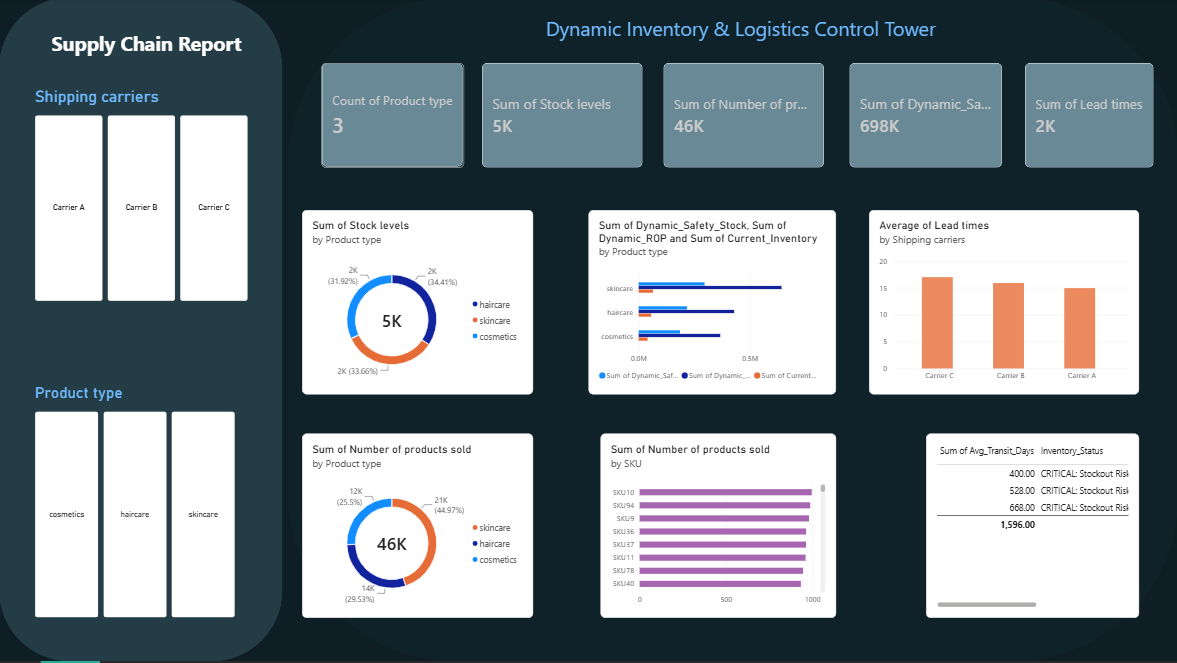

Layout of this report page (visuals, bound fields, positions):
{"tool":"powerbi","page":{"name":"Page 1","canvas":[1920,1080],"ordinal":0},"visuals":[{"type":"shape","box":[0,0,461.1,1080.8],"z":0},{"type":"textbox","box":[85.4,53.7,319.6,53.7],"z":1000},{"type":"shape","box":[470.9,0,1449.3,1080.8],"z":2000},{"type":"textbox","box":[639.2,29.3,1134.5,51.2],"z":3000},{"type":"cardVisual","fields":{"Data":["Count(supply_chain_inventory_final.Product type)"]},"box":[524.6,107.4,231.8,170.8],"z":4000},{"type":"cardVisual","fields":{"Data":["Sum(supply_chain_inventory_final.Stock levels)"]},"box":[785.6,107.4,261.1,170.8],"z":5000},{"type":"cardVisual","fields":{"Data":["Sum(supply_chain_inventory_final.Number of products sold)"]},"box":[1080.8,107.4,261.1,170.8],"z":6000},{"type":"cardVisual","fields":{"Data":["Sum(supply_chain_inventory_final.Dynamic_Safety_Stock)"]},"box":[1383.4,107.4,248.9,170.8],"z":7000},{"type":"cardVisual","fields":{"Data":["Sum(supply_chain_inventory_final.Lead times)"]},"box":[1668.8,107.4,209.8,170.8],"z":8000},{"type":"donutChart","fields":{"Category":["supply_chain_inventory_final.Product type"],"Y":["Sum(supply_chain_inventory_final.Stock levels)"]},"box":[492.8,346.5,375.7,300.1],"z":9000},{"type":"clusteredBarChart","fields":{"Category":["supply_chain_inventory_final.Product type"],"Y":["Sum(supply_chain_inventory_final.Dynamic_Safety_Stock)","Sum(supply_chain_inventory_final.Dynamic_ROP)","Sum(supply_chain_inventory_final.Current_Inventory)"]},"box":[958.8,346.5,402.6,300.1],"z":10000},{"type":"clusteredColumnChart","fields":{"Category":["supply_chain_inventory_final.Shipping carriers"],"Y":["Avg(supply_chain_inventory_final.Lead times)"]},"box":[1415.1,346.5,439.2,300.1],"z":10001},{"type":"donutChart","fields":{"Category":["supply_chain_inventory_final.Product type"],"Y":["Sum(supply_chain_inventory_final.Number of products sold)"]},"box":[492.8,710,375.7,300.1],"z":10002},{"type":"clusteredBarChart","fields":{"Category":["supply_chain_inventory_final.SKU"],"Y":["Sum(supply_chain_inventory_final.Number of products sold)"]},"box":[978.4,710,383.1,300.1],"z":10003},{"type":"tableEx","fields":{"Values":["Sum(supply_chain_inventory_final.Avg_Transit_Days)","supply_chain_inventory_final.Inventory_Status","Sum(supply_chain_inventory_final.Dynamic_ROP)","supply_chain_inventory_final.Product type"]},"box":[1507.8,710,346.5,300.1],"z":10004},{"type":"advancedSlicerVisual","fields":{"Values":["supply_chain_inventory_final.Product type"]},"box":[58.6,629.5,326.9,380.6],"z":10005},{"type":"advancedSlicerVisual","fields":{"Values":["supply_chain_inventory_final.Shipping carriers"]},"box":[58.6,146.4,346.5,348.9],"z":10006}]}

Visuals, with their boxes in screenshot pixels (x1, y1, x2, y2), scaled from the page's 1920x1080 canvas onto the 1177x663 screenshot:
shape: [0, 0, 283, 662]
textbox: [52, 33, 248, 66]
shape: [289, 0, 1176, 662]
textbox: [392, 18, 1087, 49]
cardVisual - Count(supply_chain_inventory_final.Product type): [322, 66, 464, 171]
cardVisual - Sum(supply_chain_inventory_final.Stock levels): [482, 66, 642, 171]
cardVisual - Sum(supply_chain_inventory_final.Number of products sold): [663, 66, 823, 171]
cardVisual - Sum(supply_chain_inventory_final.Dynamic_Safety_Stock): [848, 66, 1001, 171]
cardVisual - Sum(supply_chain_inventory_final.Lead times): [1023, 66, 1152, 171]
donutChart - supply_chain_inventory_final.Product type x Sum(supply_chain_inventory_final.Stock levels): [302, 213, 532, 397]
clusteredBarChart - supply_chain_inventory_final.Product type x Sum(supply_chain_inventory_final.Dynamic_Safety_Stock): [588, 213, 835, 397]
clusteredColumnChart - supply_chain_inventory_final.Shipping carriers x Avg(supply_chain_inventory_final.Lead times): [867, 213, 1137, 397]
donutChart - supply_chain_inventory_final.Product type x Sum(supply_chain_inventory_final.Number of products sold): [302, 436, 532, 620]
clusteredBarChart - supply_chain_inventory_final.SKU x Sum(supply_chain_inventory_final.Number of products sold): [600, 436, 835, 620]
tableEx - Sum(supply_chain_inventory_final.Avg_Transit_Days) x supply_chain_inventory_final.Inventory_Status: [924, 436, 1137, 620]
advancedSlicerVisual - supply_chain_inventory_final.Product type: [36, 386, 236, 620]
advancedSlicerVisual - supply_chain_inventory_final.Shipping carriers: [36, 90, 248, 304]
